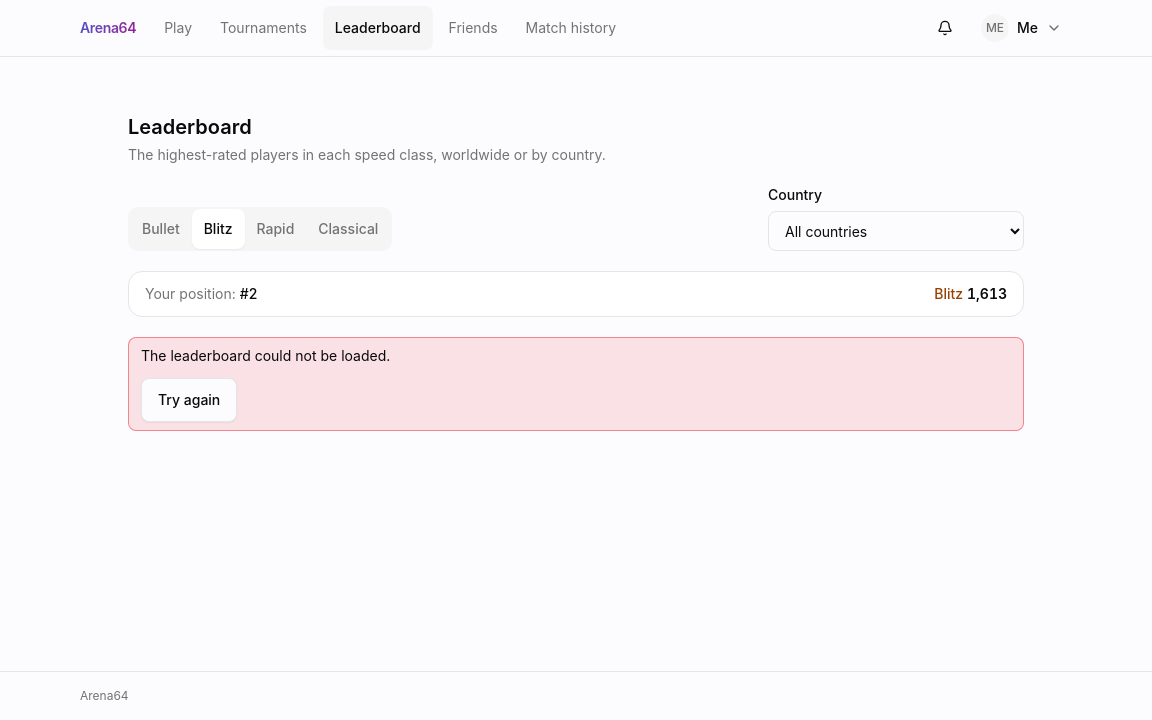
it: states › offers a retry when the ladder could not be read
Step 1. Click the button "Try again" → click(189, 400), box [141,378,237,422]
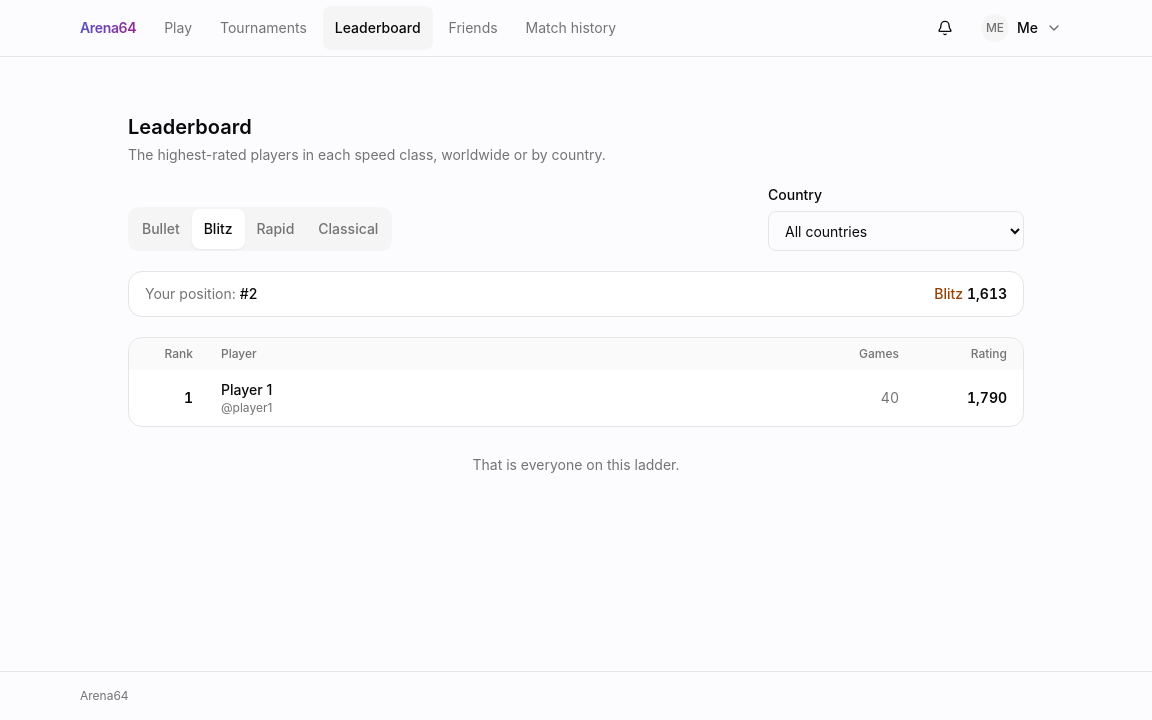
Expected: the table is shown, [129,338,1023,426]
